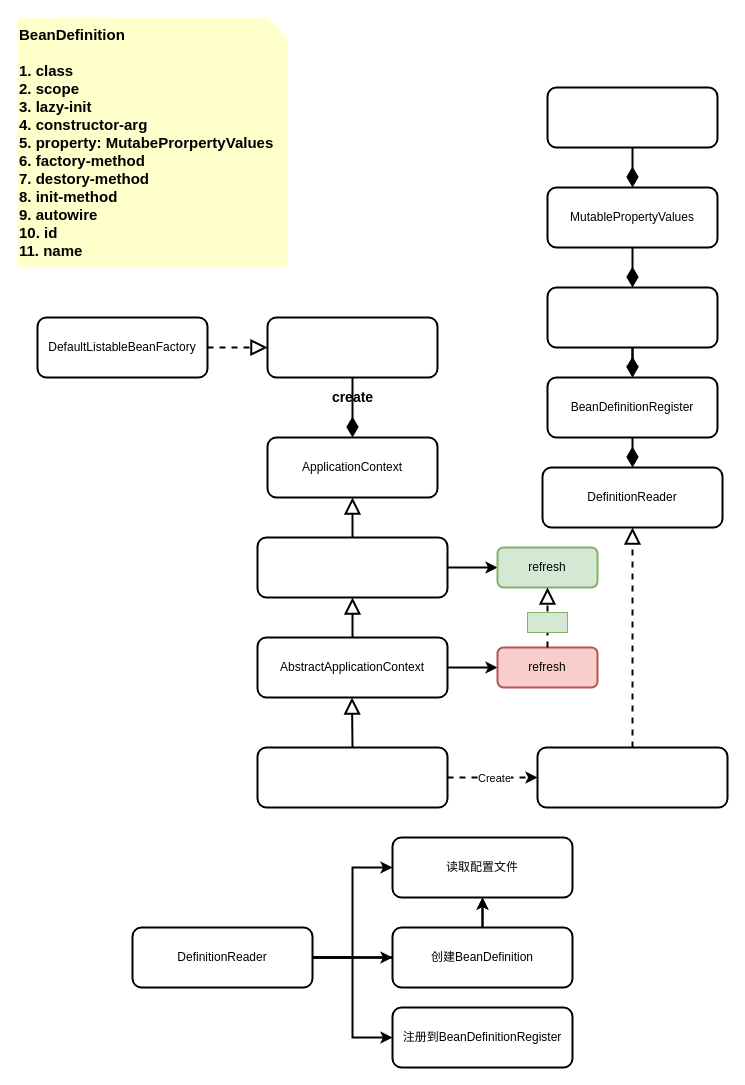
Image size: 745x1085. Some labels were removed from this diagram. Each missing label, with the centre of its shape:
"BeanDefinition" belongs at (x=632, y=317).
"ClassPathXmlApplicationContext" belongs at (x=352, y=777).
"ConfigurableApplicationContext" belongs at (x=352, y=567).
"ListableBeanFactory" belongs at (x=352, y=347).
"PropertyValues" belongs at (x=632, y=117).
"XmlBeanDefinitionReader" belongs at (x=632, y=777).
"实现" belongs at (x=547, y=622).
